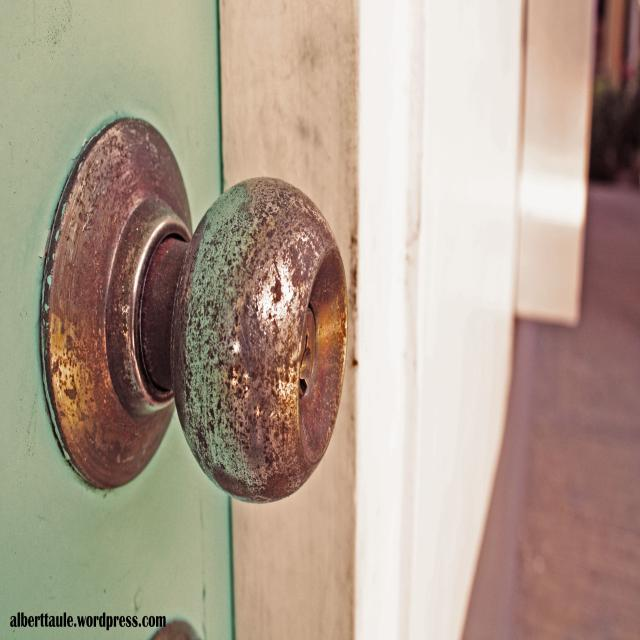door-knob: (41, 119, 348, 502)
